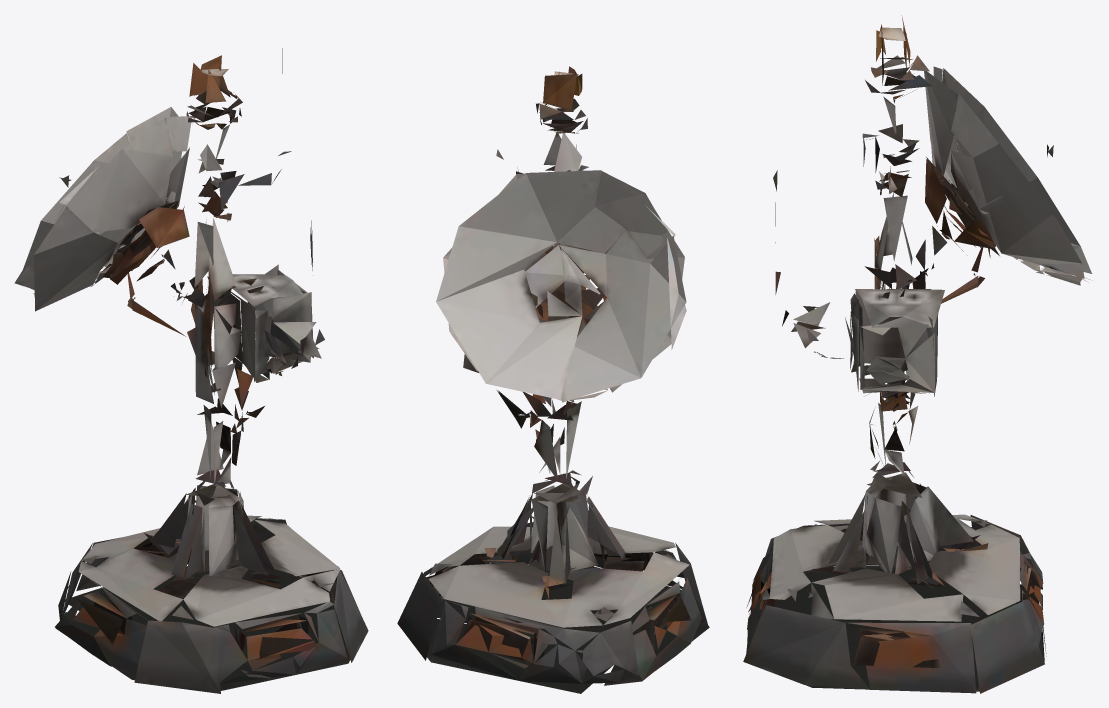
File: antenne-mat-bas.glb
3 views of the same model, side by side, from view 1: azimuth 30°, elevation 25°; view 2: azimuth 150°, elevation 25°; view 3: azimuth 270°, elevation 25° (orthographic). The views are drawn at different scales.
Visible parts, largest first — view 1: antenne-mat-bas; view 2: antenne-mat-bas; view 3: antenne-mat-bas.
Part boxes in pixels (<box>): antenne-mat-bas: <box>14,48,368,693</box>; antenne-mat-bas: <box>397,66,709,693</box>; antenne-mat-bas: <box>743,15,1091,693</box>.
Bounding box in the file's own units: 2.96 × 6 × 3.
1 material, 1 textured.
